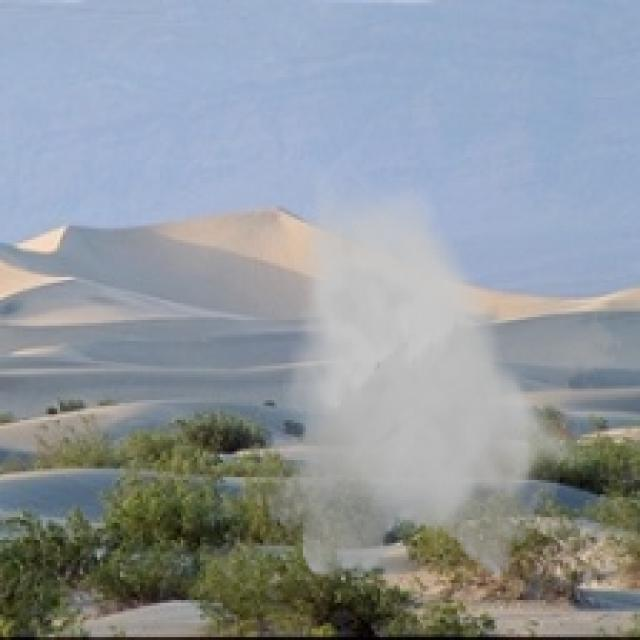Smoke: (254, 172, 626, 588)
